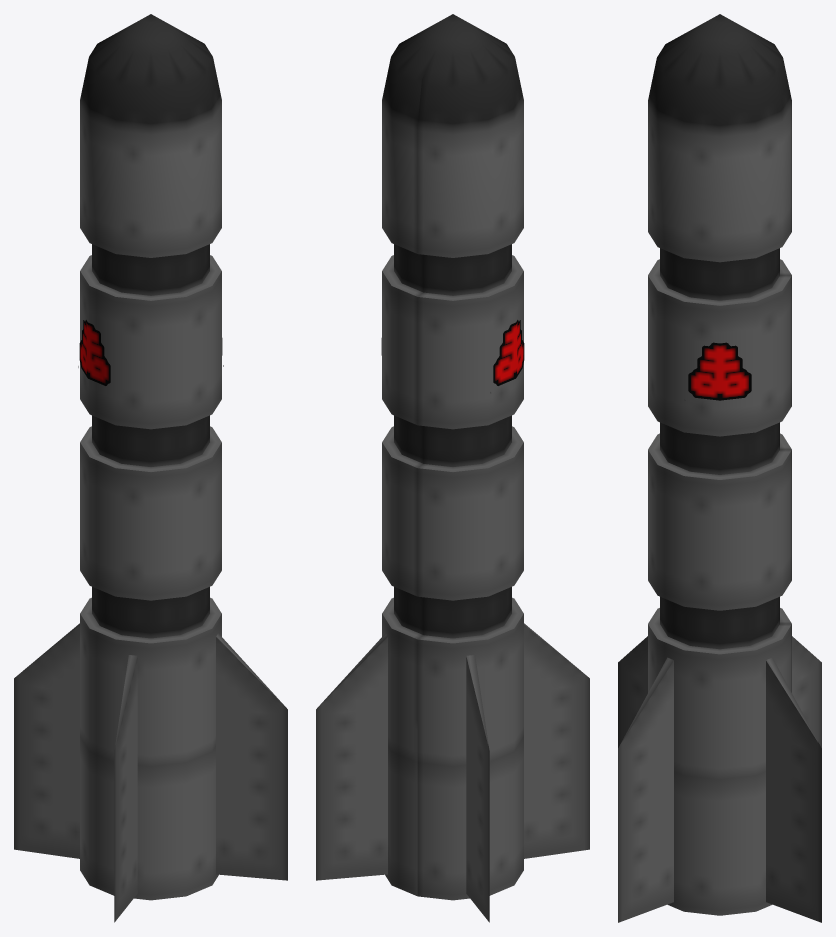
Rendered from missile_micro.obj.
The picture shows the model from 3 angles, left to right: view 1: azimuth 30°, elevation 25°; view 2: azimuth 150°, elevation 25°; view 3: azimuth 270°, elevation 25°; orthographic projection.
Visible parts, largest first — view 1: missile_micro; view 2: missile_micro; view 3: missile_micro.
Boxes of the visible parts, box(x1,y1,x2,y2) form: missile_micro: box(14, 14, 287, 922); missile_micro: box(316, 14, 589, 922); missile_micro: box(618, 14, 821, 922).
Bounding box in the file's own units: 1.06 × 5 × 1.06.
